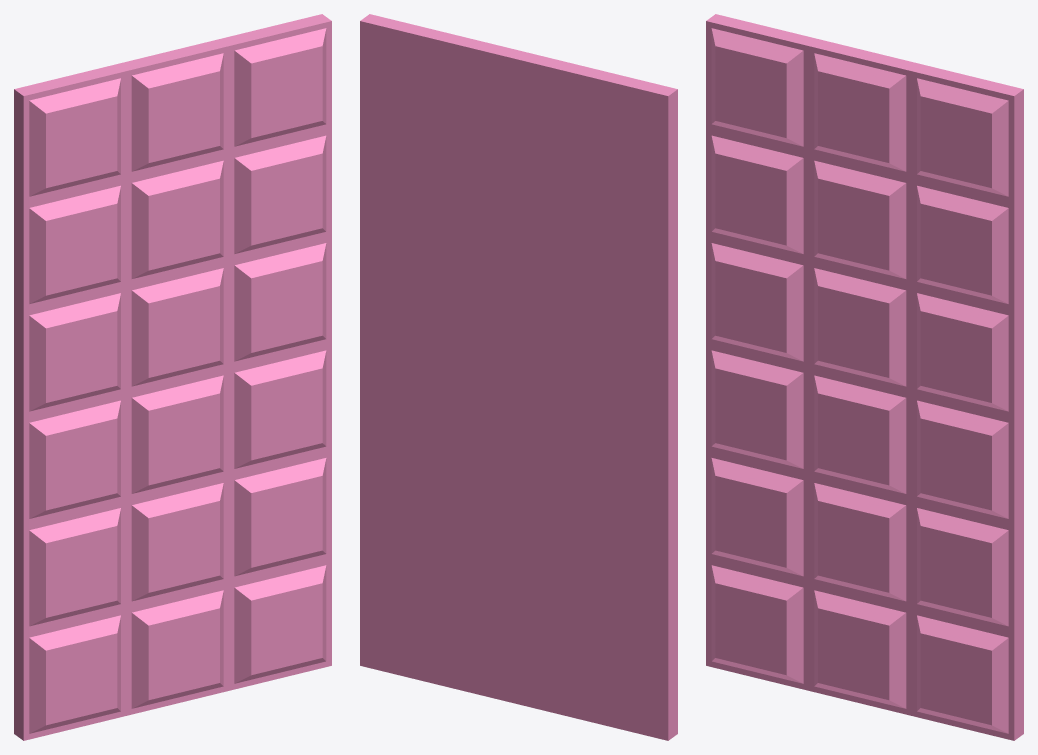
The model's file is chocolateJJ.fbx.
3 renders of one model, left to right at view 1: azimuth 30°, elevation 25°; view 2: azimuth 150°, elevation 25°; view 3: azimuth 330°, elevation 25°, orthographic.
Visible parts, largest first — view 1: chocolate1; view 2: chocolate1; view 3: chocolate1.
Part boxes in pixels (left/top/right/bottom): chocolate1: left=14, top=14, right=331, bottom=740; chocolate1: left=360, top=14, right=677, bottom=740; chocolate1: left=706, top=14, right=1023, bottom=740.
Bounding box in the file's own units: 35.61 × 71.2 × 3.22.
